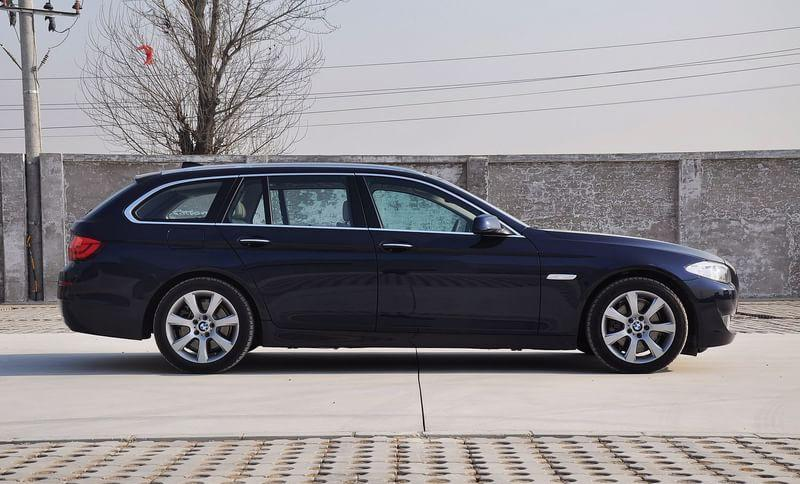Wagon: (56, 161, 740, 373)
